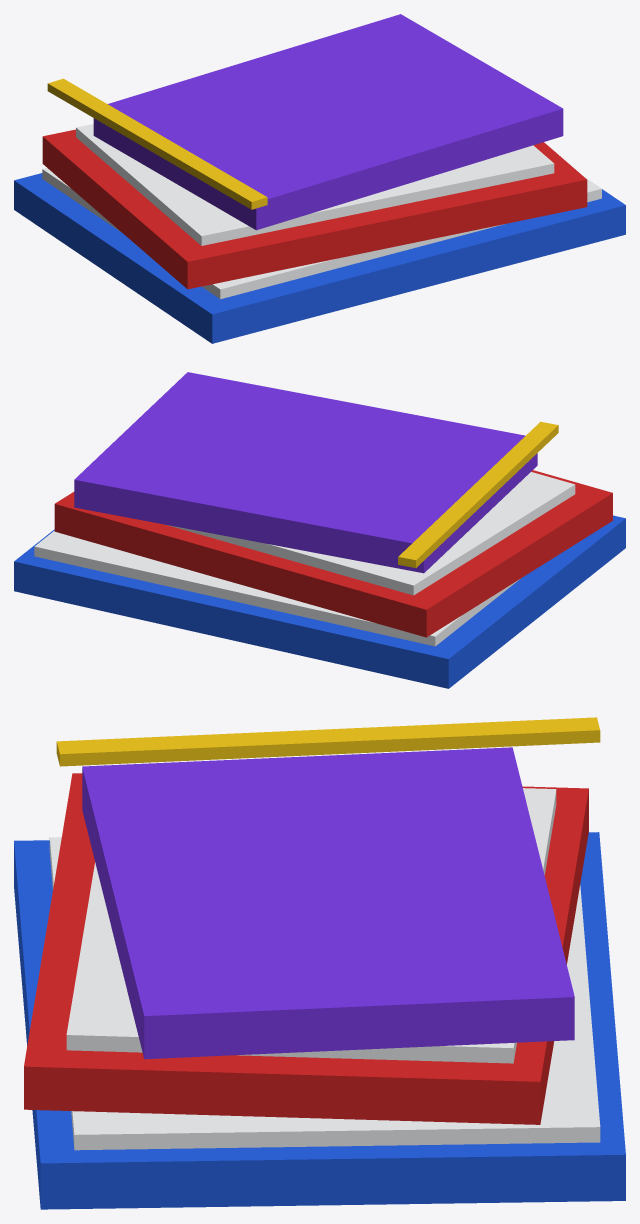
Rendered from toy_castle_book_stack.glb.
3 views of the same model, one above another, from view 1: azimuth 30°, elevation 25°; view 2: azimuth 150°, elevation 25°; view 3: azimuth 270°, elevation 25° (orthographic). The views are drawn at different scales.
Parts seen in each view (by area): view 1: solid_5, solid_1, solid_3, solid_4, solid_6, solid_2; view 2: solid_5, solid_1, solid_3, solid_4, solid_2, solid_6; view 3: solid_5, solid_1, solid_3, solid_2, solid_6, solid_4.
Part boxes in pixels (box(x1,y1,x2,y2)): solid_5: box(93, 14, 563, 230); solid_1: box(14, 173, 625, 343); solid_3: box(42, 129, 587, 289); solid_4: box(76, 124, 554, 245); solid_6: box(47, 78, 267, 209); solid_2: box(42, 168, 601, 299); solid_5: box(74, 372, 537, 573); solid_1: box(14, 515, 625, 688); solid_3: box(54, 470, 612, 637); solid_4: box(167, 472, 575, 595); solid_2: box(34, 531, 519, 646); solid_6: box(398, 421, 558, 567); solid_5: box(82, 747, 574, 1059); solid_1: box(14, 832, 625, 1209); solid_3: box(24, 773, 588, 1124); solid_2: box(49, 837, 600, 1150); solid_6: box(56, 717, 600, 766); solid_4: box(66, 788, 556, 1063).
Bounding box in the file's own units: 4.62 × 1.21 × 3.6.
